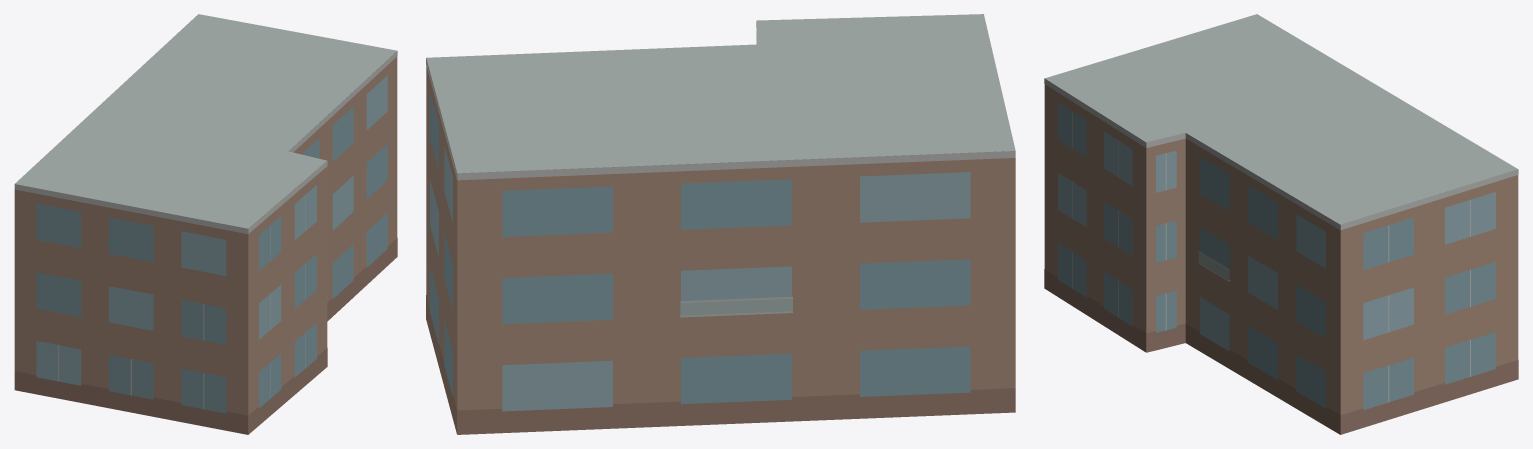
Rendered from survey-upis-32711231.glb.
The picture shows the model from 3 angles, left to right: view 1: azimuth 30°, elevation 25°; view 2: azimuth 150°, elevation 25°; view 3: azimuth 270°, elevation 25°; orthographic projection. The views are drawn at different scales.
Visible parts, largest first — view 1: survey-upis-32711231.tmp; view 2: survey-upis-32711231.tmp; view 3: survey-upis-32711231.tmp.
Boxes of the visible parts, x1,y1,x2,y2 form: survey-upis-32711231.tmp: (14, 14, 397, 434); survey-upis-32711231.tmp: (426, 14, 1015, 434); survey-upis-32711231.tmp: (1044, 14, 1518, 434).
Bounding box in the file's own units: 19.69 × 9.15 × 18.71.
